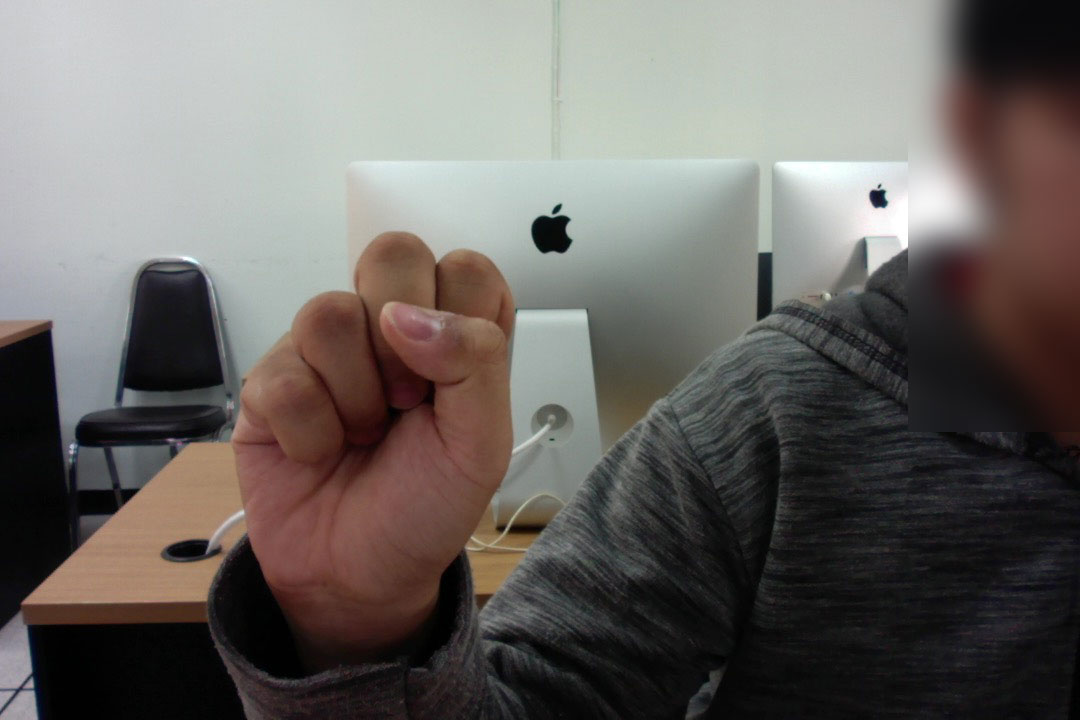sor: (224, 219, 528, 626)
